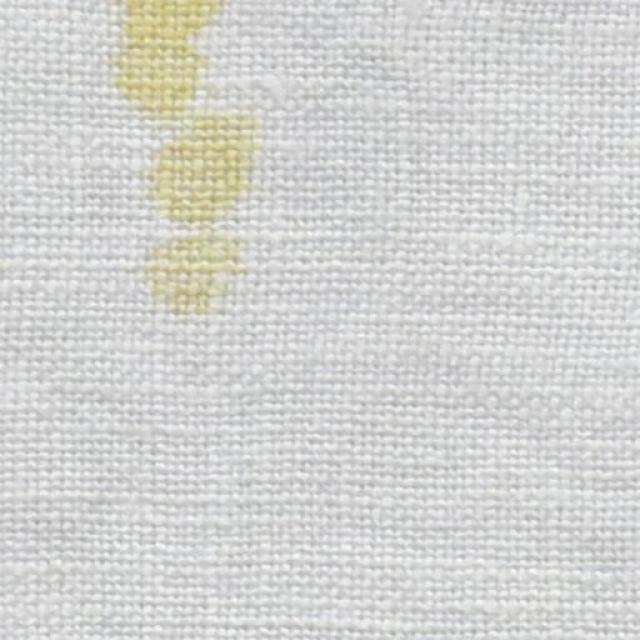Stain: (116, 0, 227, 121), (148, 116, 257, 227), (148, 239, 243, 316)
